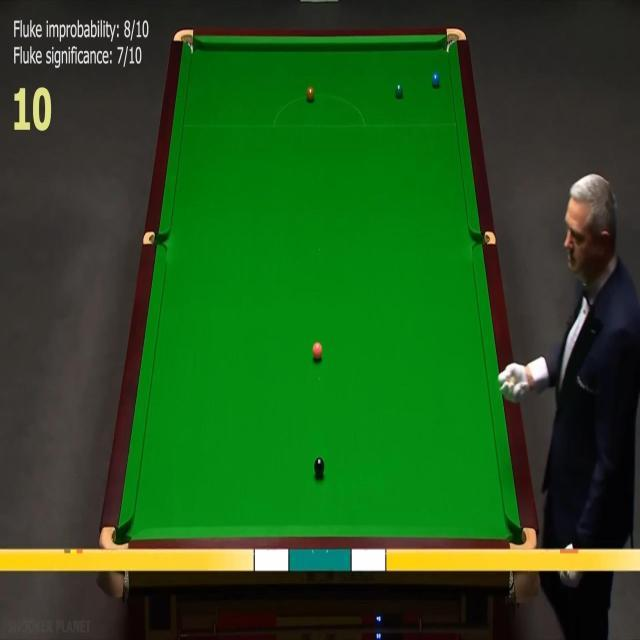Ball: (314, 456, 325, 474), (312, 341, 322, 358), (432, 72, 440, 86), (306, 86, 314, 100), (395, 83, 403, 96)
